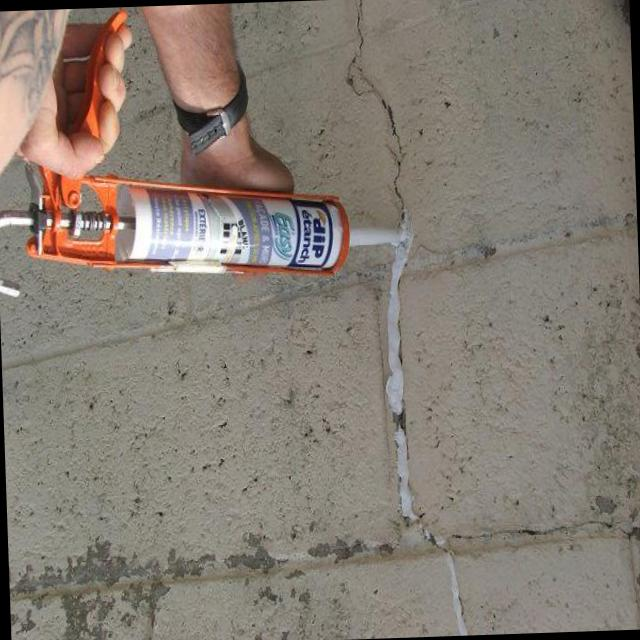crack: (344, 1, 402, 154), (450, 514, 621, 539), (383, 139, 408, 211)
